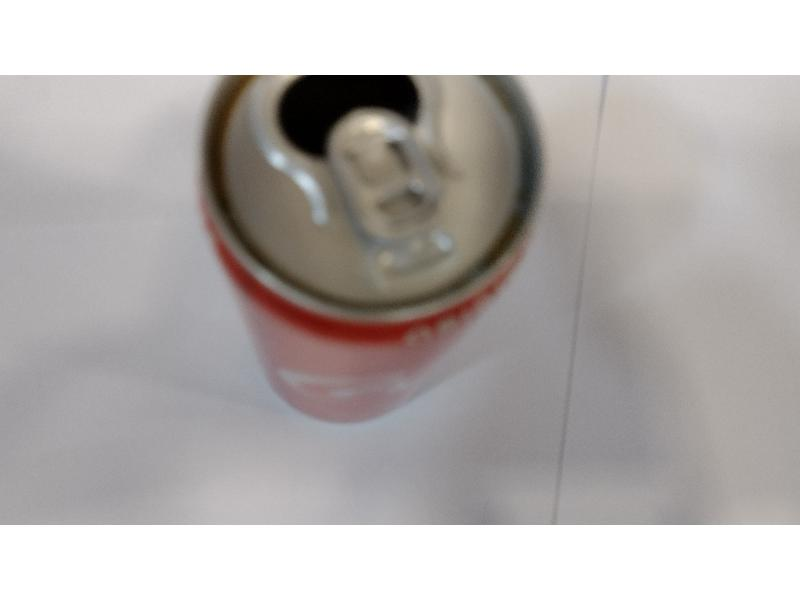can: (188, 76, 548, 429)
